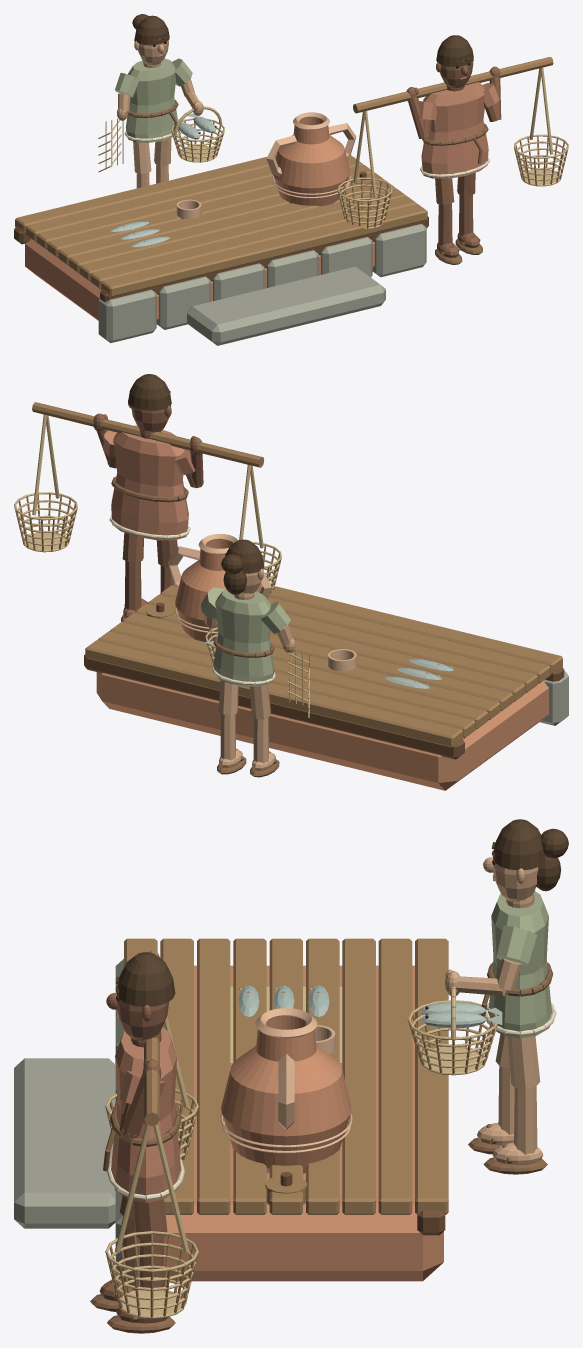
3 renders of one model, top to bottom at view 1: azimuth 30°, elevation 25°; view 2: azimuth 150°, elevation 25°; view 3: azimuth 270°, elevation 25°, orthographic. The views are drawn at different scales.
Visible parts, largest first — view 1: BA-0095 batched; view 2: BA-0095 batched; view 3: BA-0095 batched.
Part boxes in pixels (x1,y1,x2,y2): BA-0095 batched: [14, 14, 568, 345]; BA-0095 batched: [14, 374, 568, 790]; BA-0095 batched: [14, 819, 568, 1333].
Size of the model in its own units: 3.9 by 1.72 by 2.37.
